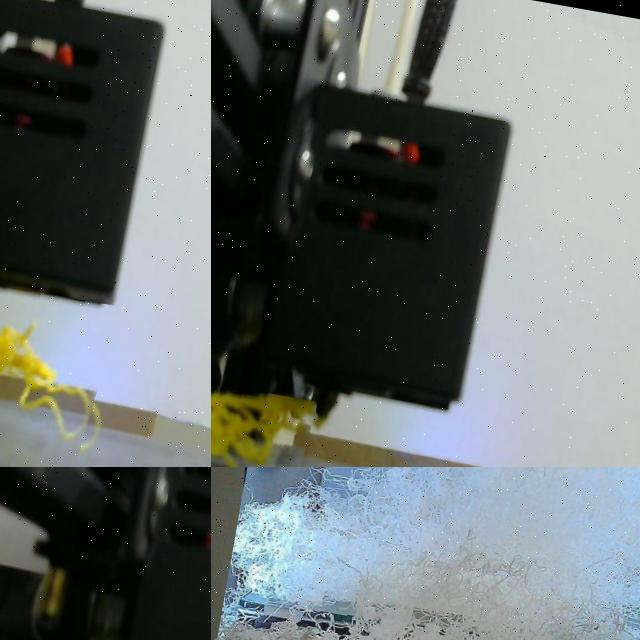spaghetti: (216, 467, 640, 640), (211, 393, 314, 467)
